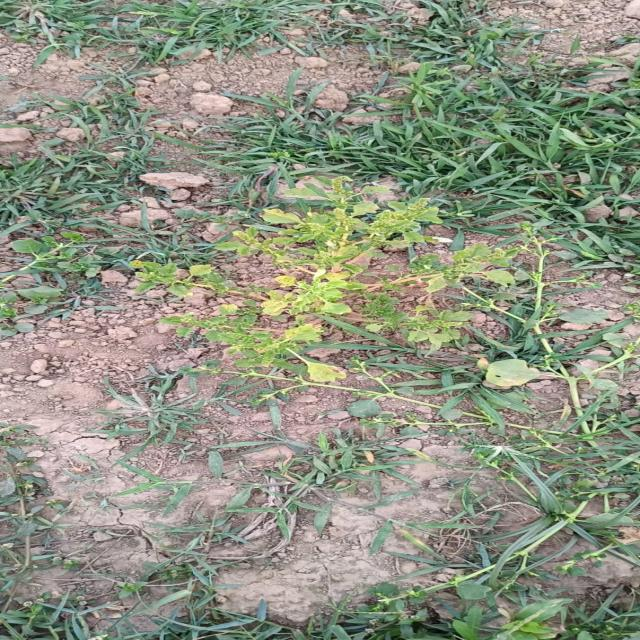plant: (104, 177, 640, 437)
